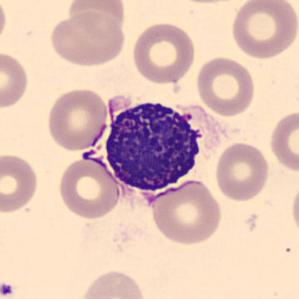Basophil: (93, 89, 219, 199)
Platelets: (0, 281, 14, 298)
RBC: (149, 178, 224, 246), (47, 9, 128, 68), (130, 20, 198, 85), (44, 86, 110, 152), (56, 156, 122, 221), (228, 0, 298, 60), (194, 54, 256, 118), (212, 140, 272, 202), (0, 152, 41, 215), (64, 0, 128, 37), (78, 267, 148, 299), (266, 108, 299, 174), (0, 49, 31, 111), (288, 179, 299, 239), (166, 0, 249, 6), (0, 0, 8, 47)
